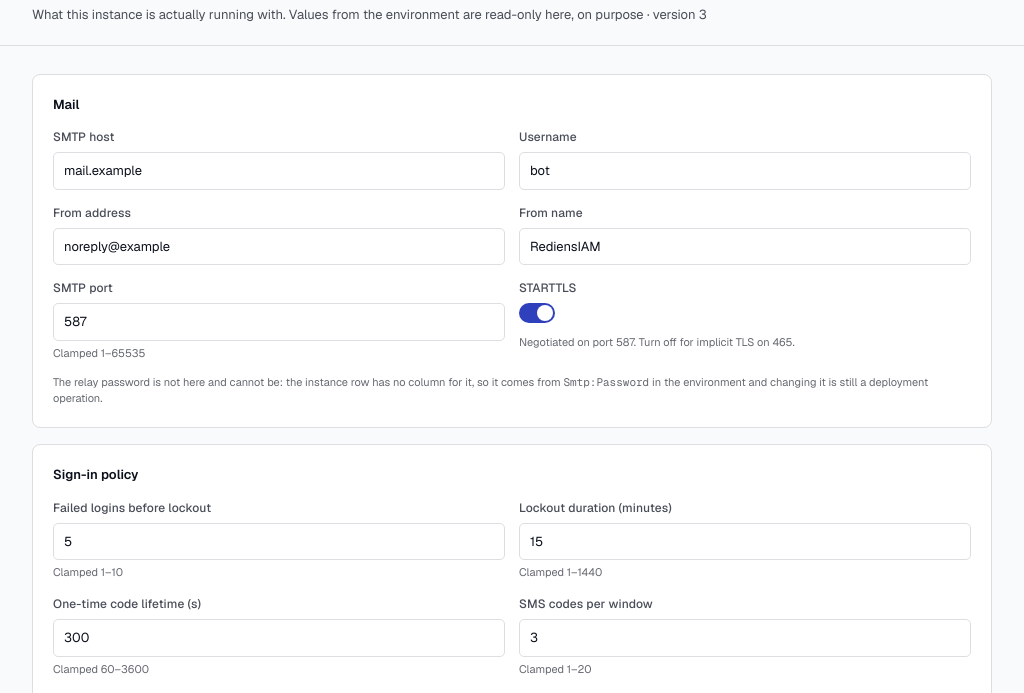
Test case: saving › re-reads after saving rather than keeping the typed value
The image size is (1024, 693).
Replace the text in the number field labelled "Lockout duration (minutes)" with "100000": (745, 542) [519,523,971,560]
(page scrolled)
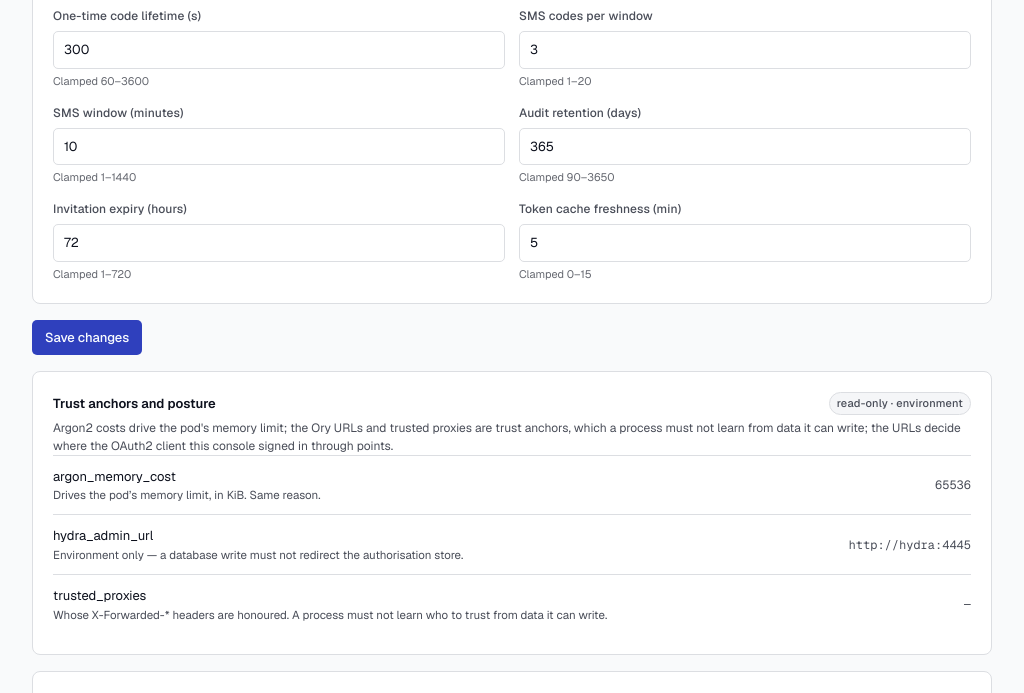
Click the button "Save changes": (87, 337) [32,320,142,355]
(page scrolled)
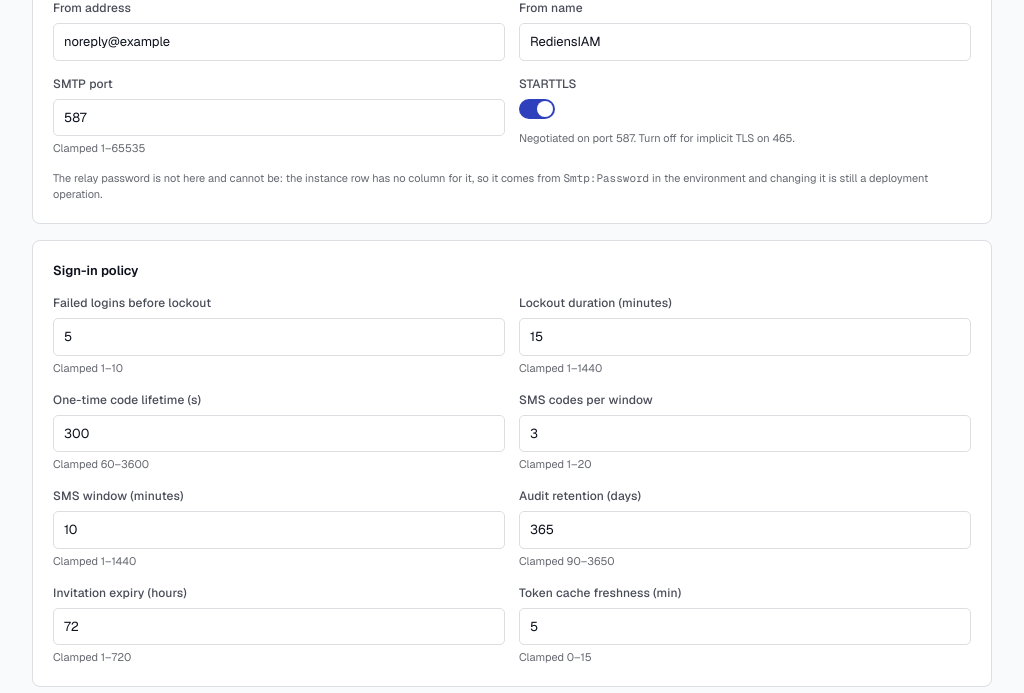
Result: the number field labelled "Lockout duration (minutes)" holds "15" at [519,318,971,356]
